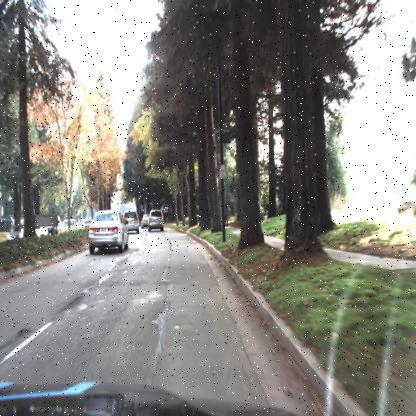car: (87, 207, 128, 254), (121, 210, 141, 236), (146, 208, 164, 235), (125, 208, 141, 232), (7, 223, 25, 240), (139, 210, 149, 230)
